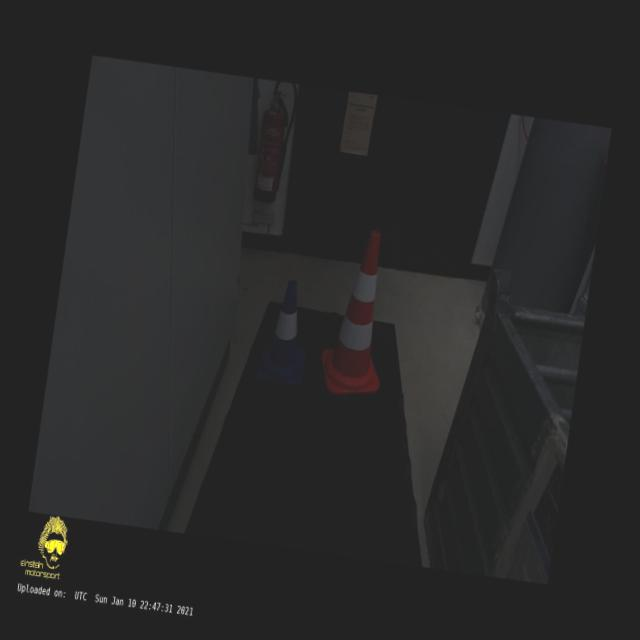blue_cone: (258, 278, 314, 386)
large_orange_cone: (317, 225, 401, 398)
